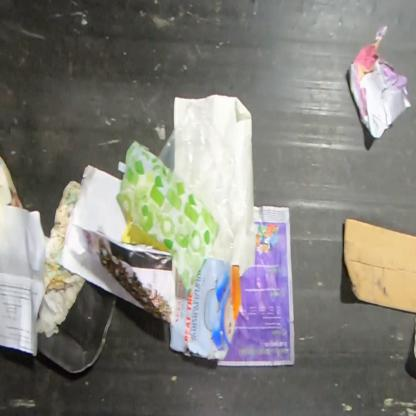cardboard: (169, 257, 243, 361), (343, 216, 415, 316)
rigid_plastic: (38, 279, 118, 375)
soft_plastic: (156, 102, 237, 264)
